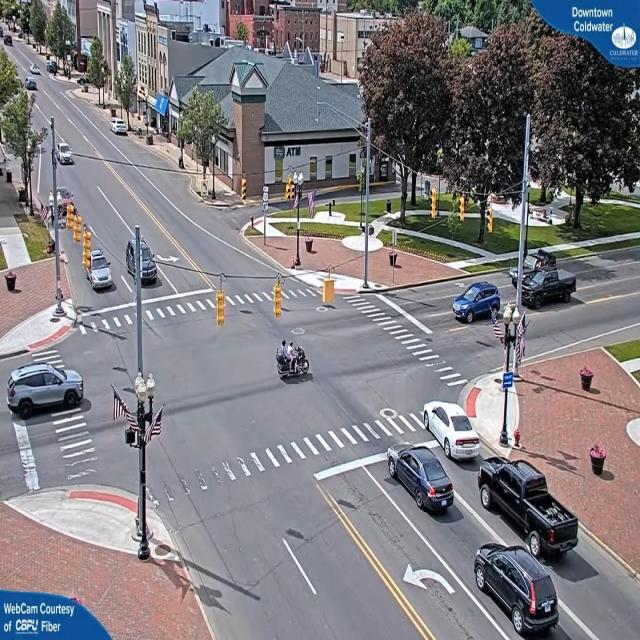car: (479, 456, 580, 563), (474, 543, 560, 639), (387, 444, 457, 515), (7, 364, 88, 418), (422, 402, 482, 463), (520, 268, 576, 308), (454, 284, 502, 325), (85, 258, 115, 294), (112, 120, 128, 136)
motorbike: (277, 339, 310, 379)
